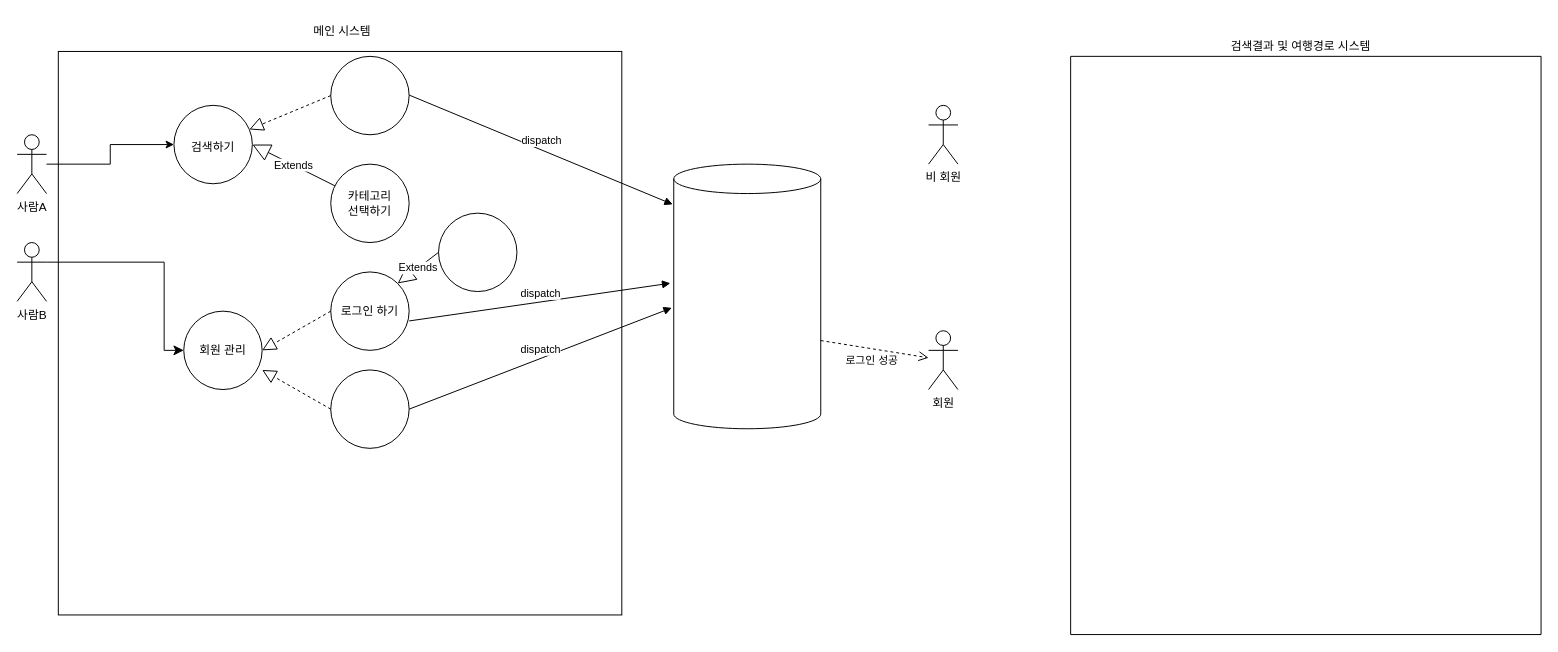
Image size: 1558x652. Some labels were removed from this diagram. Each missing label, with the centre of its shape:
"DB" belongs at point (747, 296).
"아이디 저장" belongs at point (477, 252).
"지역기반 검색하기" belongs at point (369, 95).
"회원가입 하기" belongs at point (369, 408).
